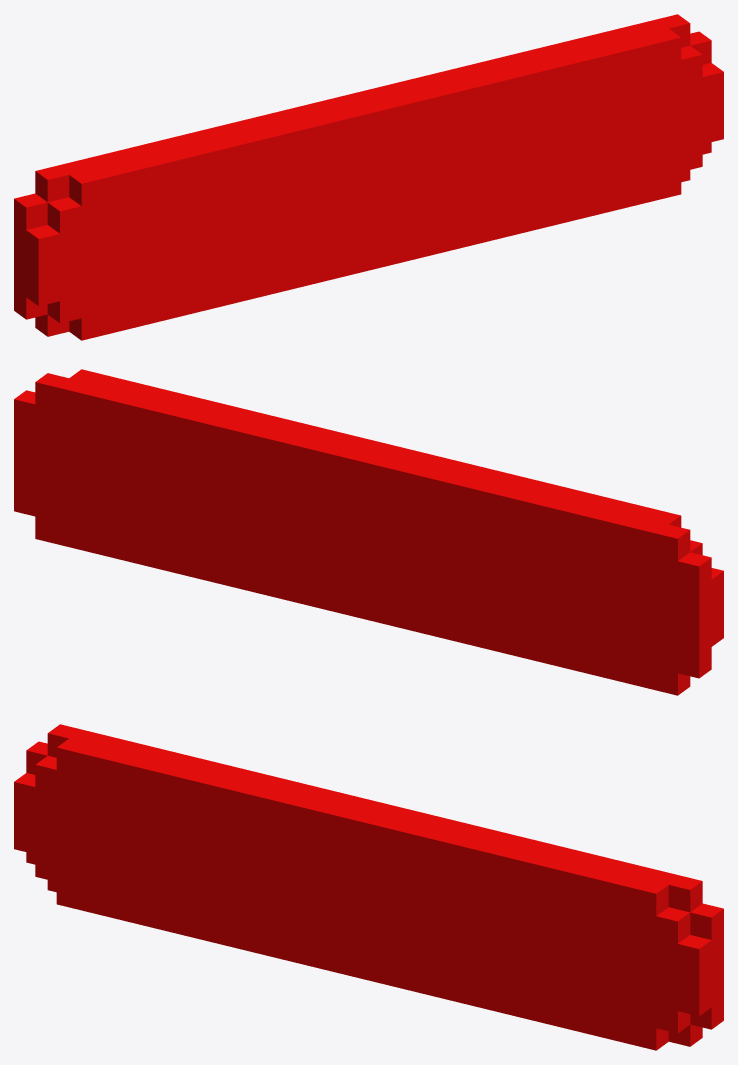
The model's file is empty_button.obj.
The picture shows the model from 3 angles, top to bottom: view 1: azimuth 30°, elevation 25°; view 2: azimuth 150°, elevation 25°; view 3: azimuth 330°, elevation 25°; orthographic projection.
Parts seen in each view (by area): view 1: empty_button; view 2: empty_button; view 3: empty_button.
Part boxes in pixels (x1,y1,x2,y2): empty_button: (14,14,723,340); empty_button: (14,369,723,695); empty_button: (14,724,723,1050).
Size of the model in its own units: 32 by 7 by 2.
1 material, 1 textured.
